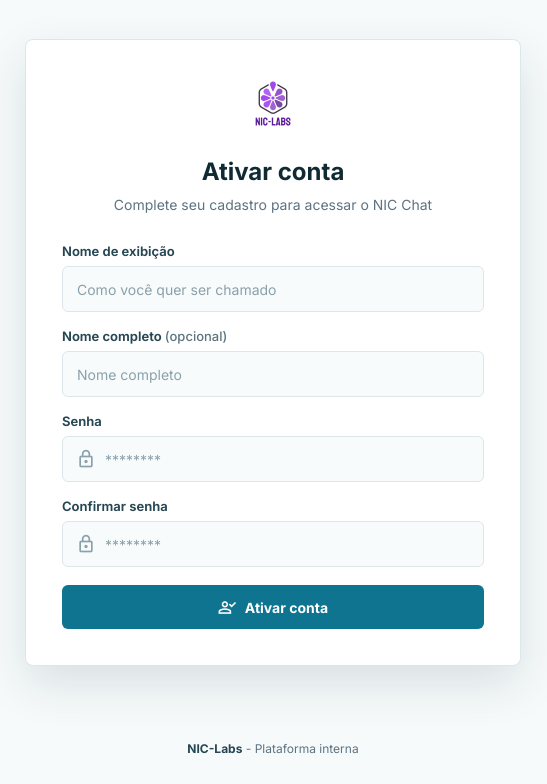
AcceptInvitePage › shows generic error on 401 invalid_invite_token
Type "Alice" into the field labelled "Nome de exibição". click: (273, 289)
box: x1=62 y1=266 x2=484 y2=312
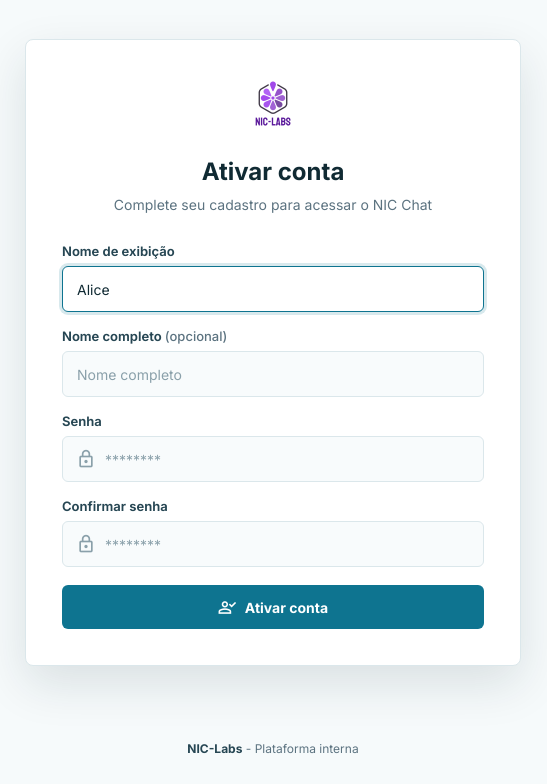
Type "P@ss1word" into the password field labelled "Senha". click: (273, 459)
box: x1=62 y1=436 x2=484 y2=482
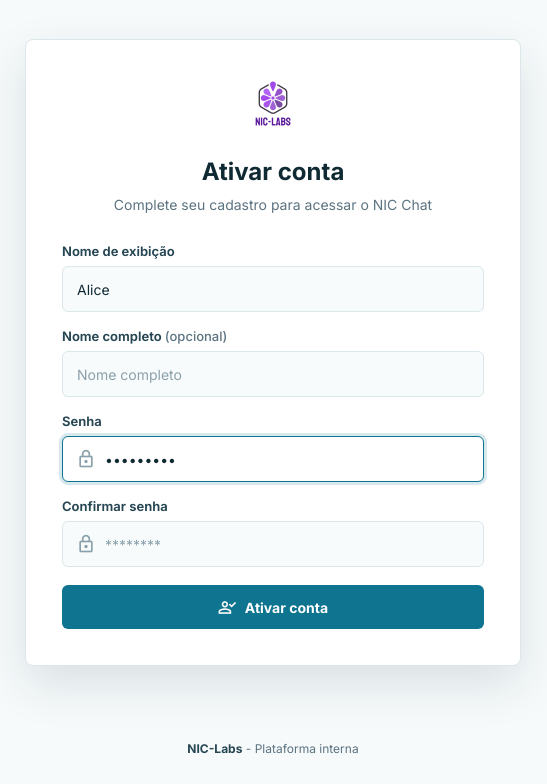
Type "P@ss1word" into the password field labelled "Confirmar senha". click: (273, 544)
box: x1=62 y1=521 x2=484 y2=567
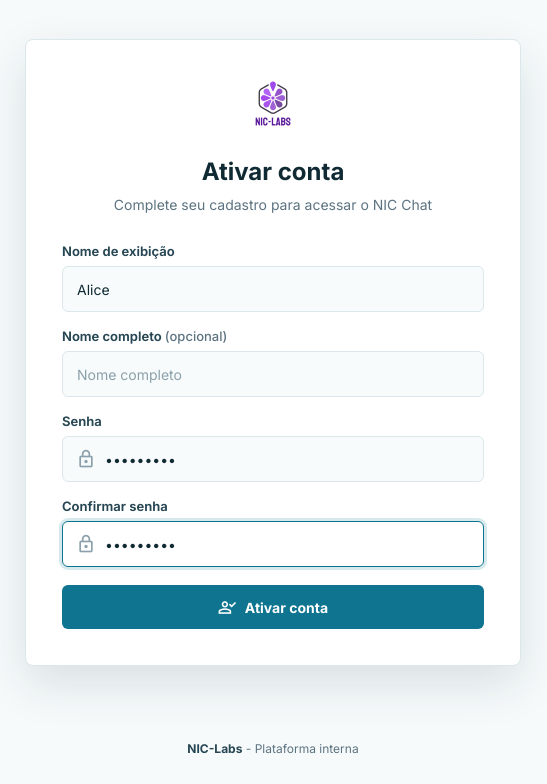
Click the button "Ativar conta". click: (273, 607)
box: x1=62 y1=585 x2=484 y2=629
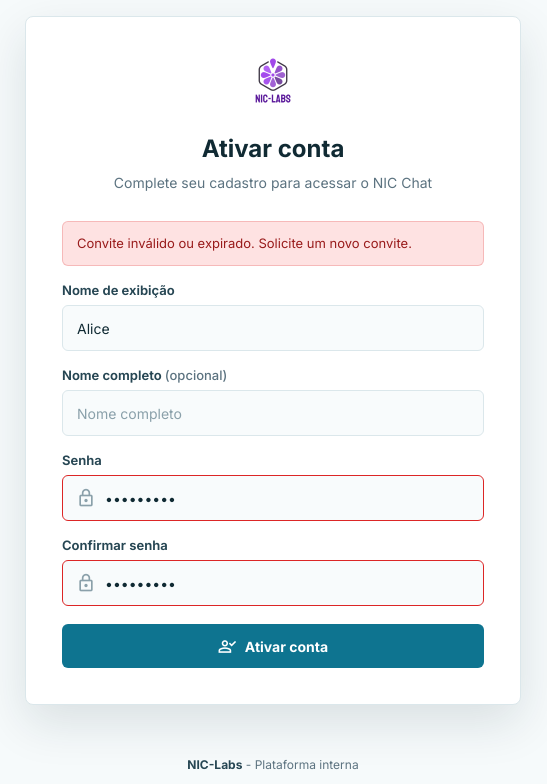
Expected: the message shows "Convite inválido ou expirado", x1=77 y1=235 x2=412 y2=251
